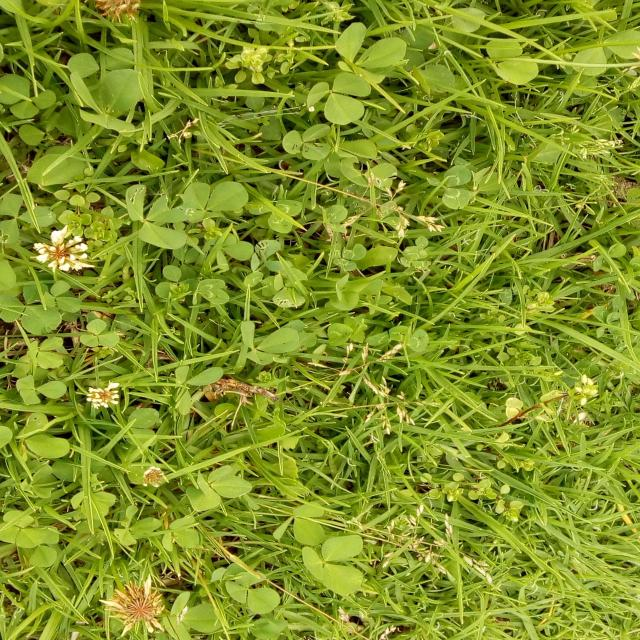Four Leaf Clover: (185, 464, 253, 511)
